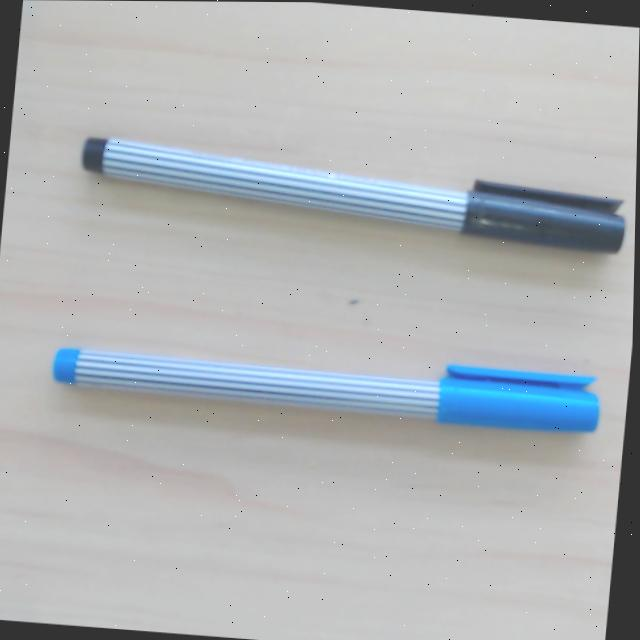Pulpen-Garis-Biru: (50, 328, 600, 436)
Pulpen-Garis-Hitam: (77, 125, 627, 256)
